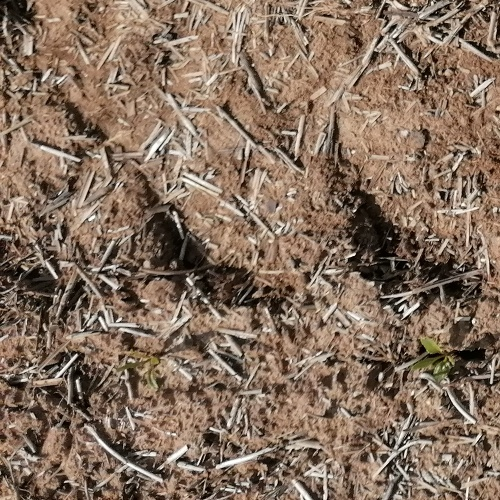beet: (411, 330, 463, 384)
